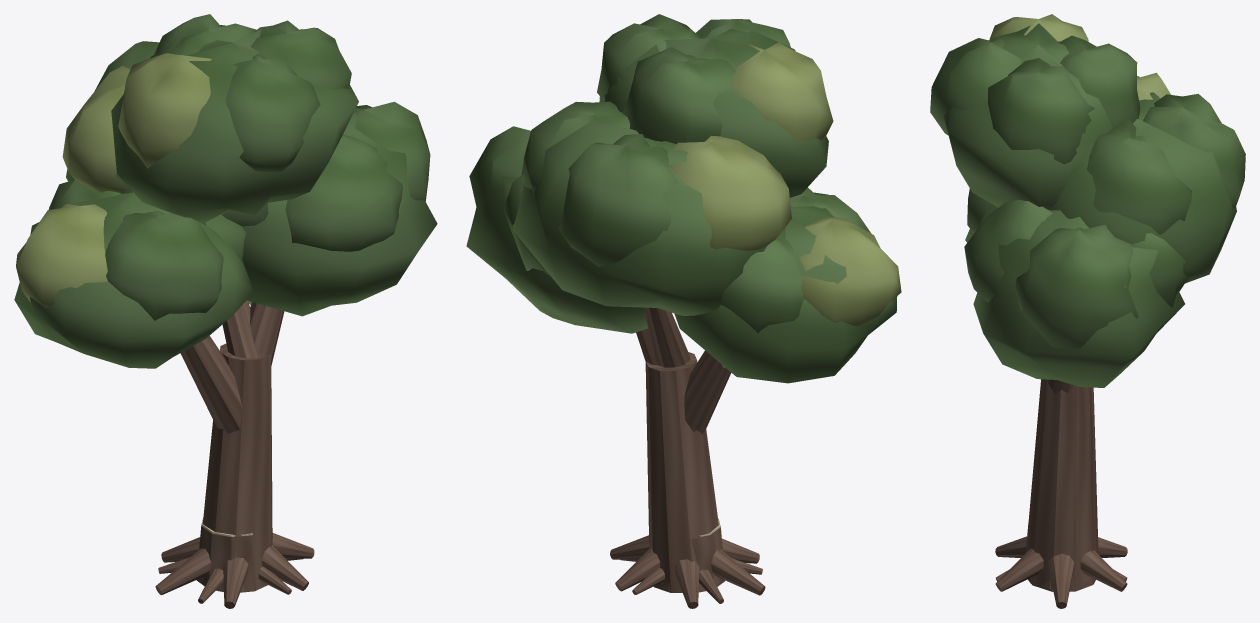
Rendered from oak_tree.glb.
The picture shows the model from 3 angles, left to right: view 1: azimuth 30°, elevation 25°; view 2: azimuth 150°, elevation 25°; view 3: azimuth 270°, elevation 25°; orthographic projection. The views are drawn at different scales.
Parts seen in each view (by area): view 1: Canopy3, Canopy0, Canopy1, LiveTrunk, Canopy2, Stump; view 2: Canopy2, Canopy3, Canopy0, LiveTrunk, Canopy1, Stump; view 3: Canopy1, Canopy3, Canopy2, LiveTrunk, Canopy0.
Part boxes in pixels (x1,y1,x2,y2): Canopy3: [111, 14, 358, 223]; Canopy0: [14, 179, 253, 368]; Canopy1: [242, 101, 437, 316]; LiveTrunk: [155, 300, 314, 608]; Canopy2: [62, 41, 268, 226]; Stump: [158, 518, 303, 603]; Canopy2: [512, 101, 791, 315]; Canopy3: [597, 14, 833, 197]; Canopy0: [674, 187, 901, 383]; LiveTrunk: [610, 307, 765, 608]; Canopy1: [466, 126, 647, 333]; Stump: [620, 518, 762, 603]; Canopy1: [964, 200, 1187, 387]; Canopy3: [930, 14, 1140, 209]; Canopy2: [1049, 72, 1245, 283]; LiveTrunk: [995, 379, 1127, 608]; Canopy0: [965, 188, 997, 242].
Bounding box in the file's own units: 3.05 × 3.86 × 2.09.
1 material, 1 textured.
